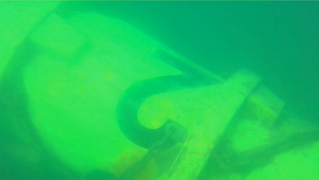2: (115, 47, 224, 150)
pipe: (1, 1, 319, 180)
